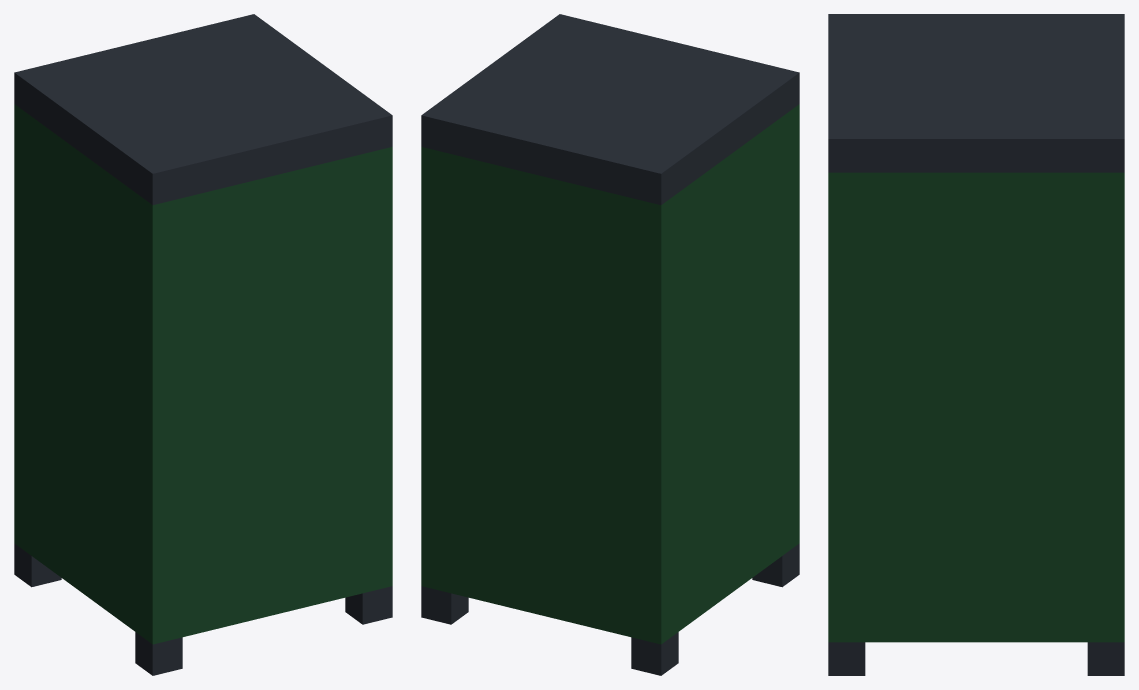
File: greytrashcloseold.gltf
The picture shows the model from 3 angles, left to right: view 1: azimuth 30°, elevation 25°; view 2: azimuth 150°, elevation 25°; view 3: azimuth 270°, elevation 25°; orthographic projection. The views are drawn at different scales.
Visible parts, largest first — view 1: mesh (×8); view 2: mesh (×8); view 3: mesh (×5).
Boxes of the visible parts, x1,y1,x2,y2 form: mesh (×8): (14, 14, 392, 675); mesh (×8): (421, 14, 799, 675); mesh (×5): (828, 14, 1124, 675).
Bounding box in the file's own units: 1 × 2 × 1.
1 material, 1 textured.
